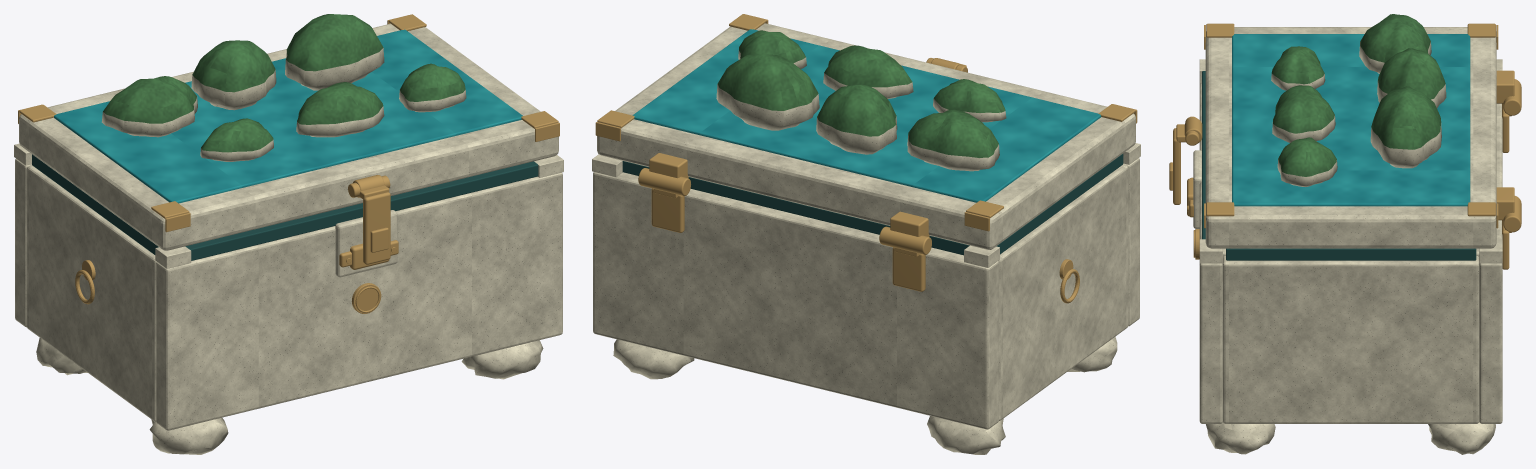
The model's file is palau.glb.
3 views of the same model, side by side, from view 1: azimuth 30°, elevation 25°; view 2: azimuth 150°, elevation 25°; view 3: azimuth 270°, elevation 25° (orthographic).
Parts seen in each view (by area): view 1: Limestone / front, Lid / polished slab, Lagoon / inset, Limestone / side, Island / 2, Mineral seam / long, Island / 1, Island / 0, Island / 4, Island / 3, Island / 5, Limestone foot (+8 smaller); view 2: Limestone / rear, Lid / polished slab, Lagoon / inset, Limestone / side, Island / 2, Island / 1, Island / 0, Island / 4, Mineral seam / long.001, Island / 5, Limestone foot.001, Limestone / front (+11 smaller); view 3: Limestone / side.001, Lagoon / inset, Lid / polished slab, Limestone / rear, Island / 2, Limestone / front, Mineral seam / side.001, Island / 4, Island / 1, Island / 0, Island / 3, Island / 5 (+15 smaller).
Part boxes in pixels (left/top/right/bottom): Limestone / front: left=156, top=172, right=562, bottom=430; Lid / polished slab: left=19, top=23, right=558, bottom=250; Lagoon / inset: left=54, top=29, right=522, bottom=203; Limestone / side: left=26, top=165, right=156, bottom=421; Island / 2: left=285, top=14, right=384, bottom=90; Mineral seam / long: left=185, top=161, right=538, bottom=260; Island / 1: left=191, top=40, right=276, bottom=110; Island / 0: left=101, top=76, right=197, bottom=137; Island / 4: left=296, top=82, right=384, bottom=137; Island / 3: left=399, top=63, right=466, bottom=112; Island / 5: left=200, top=118, right=273, bottom=161; Limestone foot: left=149, top=417, right=228, bottom=454; Limestone / rear: left=593, top=172, right=998, bottom=429; Lid / polished slab: left=597, top=23, right=1135, bottom=249; Lagoon / inset: left=632, top=29, right=1101, bottom=202; Limestone / side: left=998, top=164, right=1128, bottom=420; Island / 2: left=716, top=54, right=819, bottom=130; Island / 1: left=816, top=84, right=897, bottom=154; Island / 0: left=907, top=109, right=999, bottom=171; Island / 4: left=823, top=45, right=913, bottom=98; Mineral seam / long.001: left=622, top=161, right=969, bottom=255; Island / 5: left=933, top=79, right=1006, bottom=122; Limestone foot.001: left=927, top=416, right=1005, bottom=454; Limestone / front: left=1123, top=158, right=1139, bottom=326; Limestone / side.001: left=1223, top=256, right=1479, bottom=423; Lagoon / inset: left=1232, top=34, right=1470, bottom=206; Lid / polished slab: left=1205, top=27, right=1496, bottom=248; Limestone / rear: left=1479, top=103, right=1502, bottom=423; Island / 2: left=1370, top=86, right=1441, bottom=168; Limestone / front: left=1199, top=83, right=1222, bottom=423; Mineral seam / side.001: left=1226, top=248, right=1476, bottom=260; Island / 4: left=1272, top=85, right=1335, bottom=142; Island / 1: left=1377, top=48, right=1446, bottom=108; Island / 0: left=1359, top=14, right=1431, bottom=73; Island / 3: left=1277, top=137, right=1337, bottom=186; Island / 5: left=1271, top=46, right=1325, bottom=90.
Size of the model in its own units: 3.79 by 2.88 by 2.88.
Materials: 5 (3 with a texture image).
